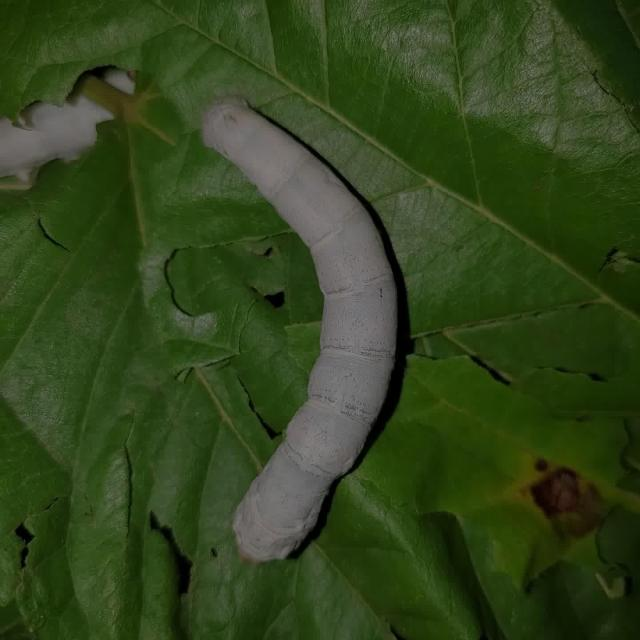Healthy: (165, 73, 414, 585)
